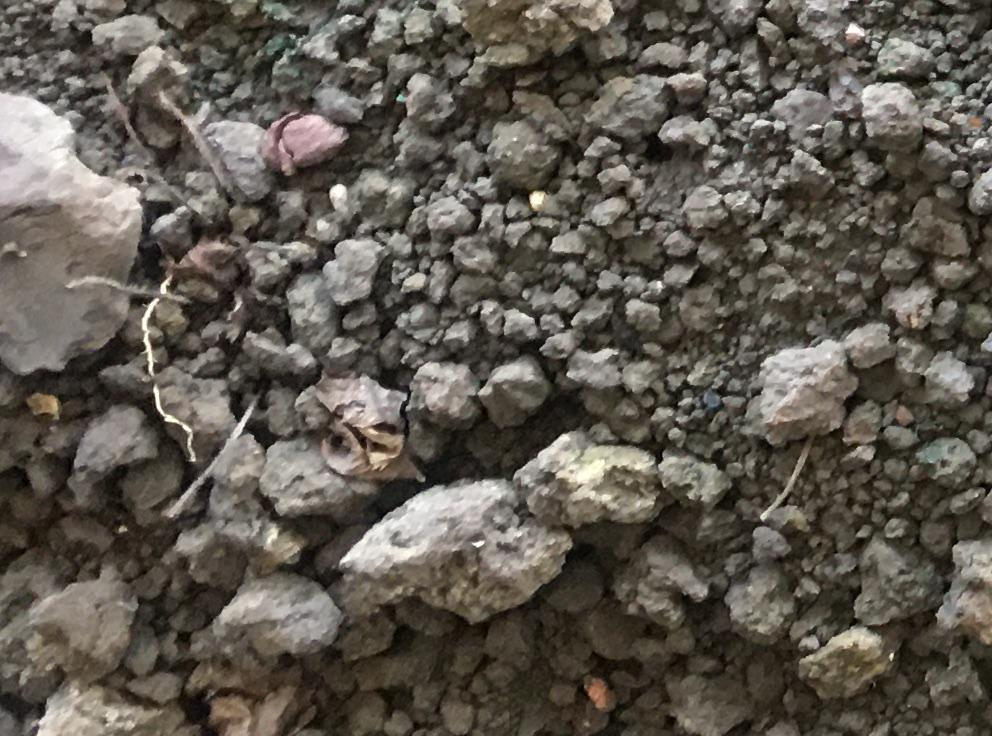block: (1, 92, 134, 375), (335, 478, 564, 616), (1, 576, 139, 700), (505, 428, 668, 526), (759, 342, 855, 450)
